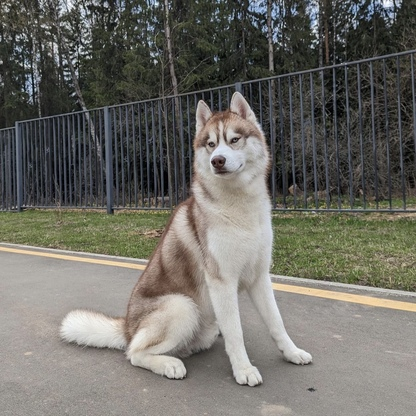husky: (52, 84, 317, 392)
